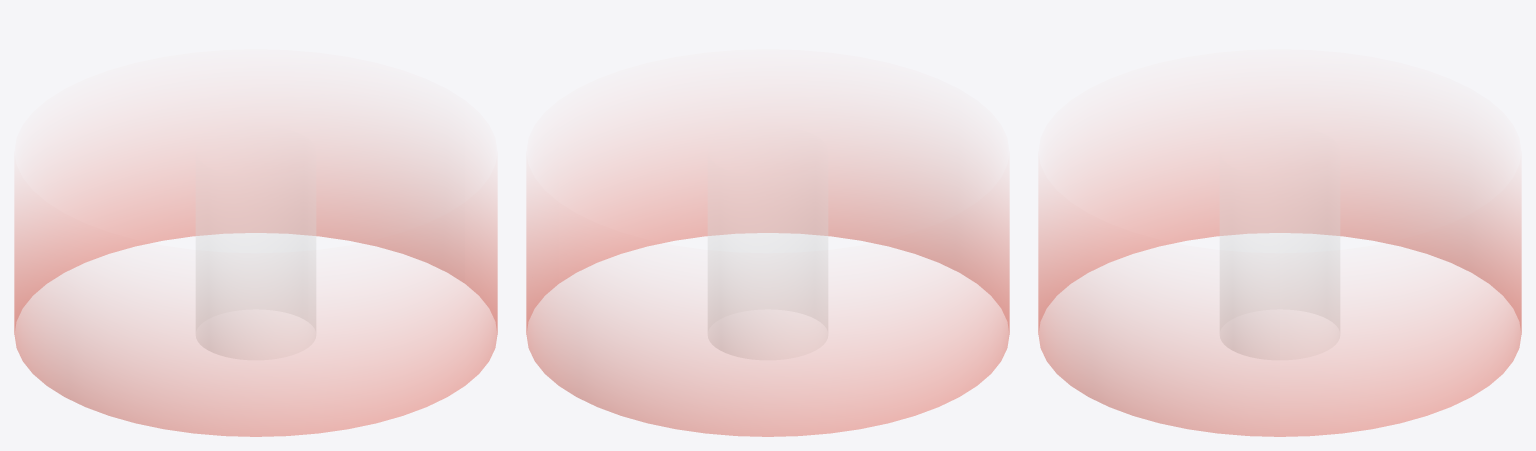
The model's file is fx_pillar_red.glb.
The picture shows the model from 3 angles, left to right: view 1: azimuth 30°, elevation 25°; view 2: azimuth 150°, elevation 25°; view 3: azimuth 270°, elevation 25°; orthographic projection.
Visible parts, largest first — view 1: fx_pillar_red; view 2: fx_pillar_red; view 3: fx_pillar_red.
Part boxes in pixels (bbox=[...]): fx_pillar_red: bbox=[14, 107, 497, 436]; fx_pillar_red: bbox=[526, 107, 1009, 436]; fx_pillar_red: bbox=[1038, 107, 1521, 436].
Size of the model in its own units: 2 by 1 by 2.
Materials: 2 (2 with a texture image).
